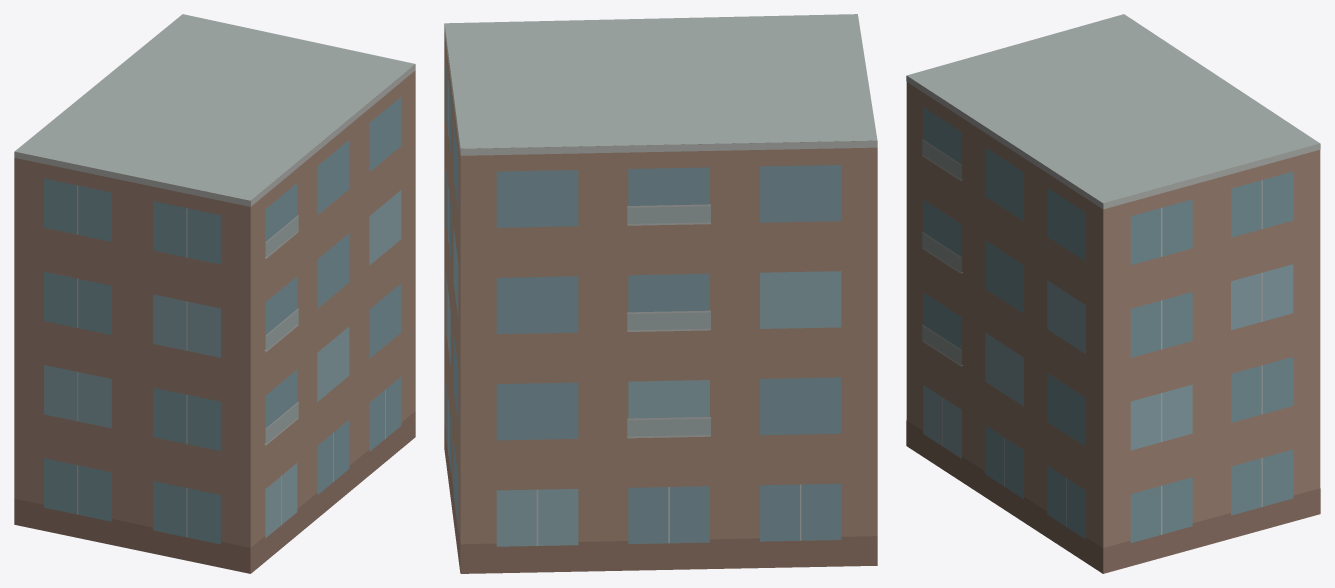
Rendered from survey-upis-33005938.glb.
3 views of the same model, side by side, from view 1: azimuth 30°, elevation 25°; view 2: azimuth 150°, elevation 25°; view 3: azimuth 270°, elevation 25° (orthographic). The views are drawn at different scales.
Visible parts, largest first — view 1: survey-upis-33005938.tmp; view 2: survey-upis-33005938.tmp; view 3: survey-upis-33005938.tmp.
Part boxes in pixels (bbox=[...]): survey-upis-33005938.tmp: bbox=[14, 14, 415, 573]; survey-upis-33005938.tmp: bbox=[444, 14, 877, 573]; survey-upis-33005938.tmp: bbox=[906, 14, 1320, 573].
Size of the model in its own units: 16.16 by 14.74 by 14.93.
